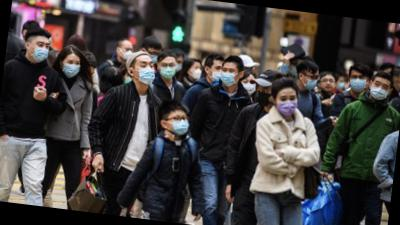with_mask: (274, 91, 300, 118), (133, 59, 158, 86), (168, 112, 192, 137), (29, 39, 52, 64), (369, 79, 391, 103), (219, 65, 240, 88), (61, 58, 82, 80), (253, 86, 273, 108), (349, 72, 368, 94), (239, 77, 259, 97), (158, 60, 177, 80), (304, 73, 320, 91), (119, 45, 135, 63), (188, 64, 204, 81), (146, 49, 162, 66), (209, 63, 223, 82), (335, 78, 346, 92)
without_mask: (320, 76, 336, 92)
